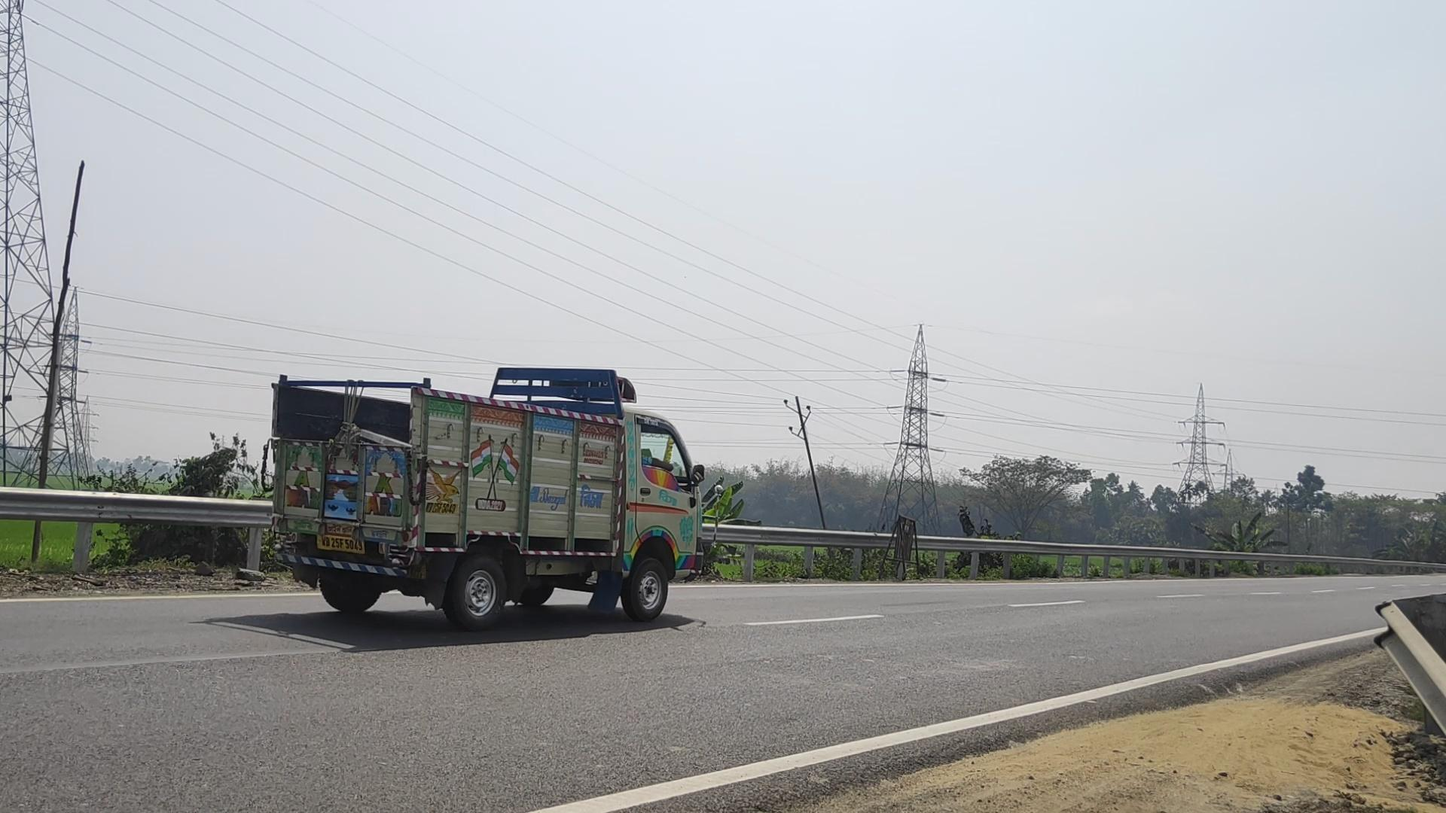van: (267, 367, 723, 631)
